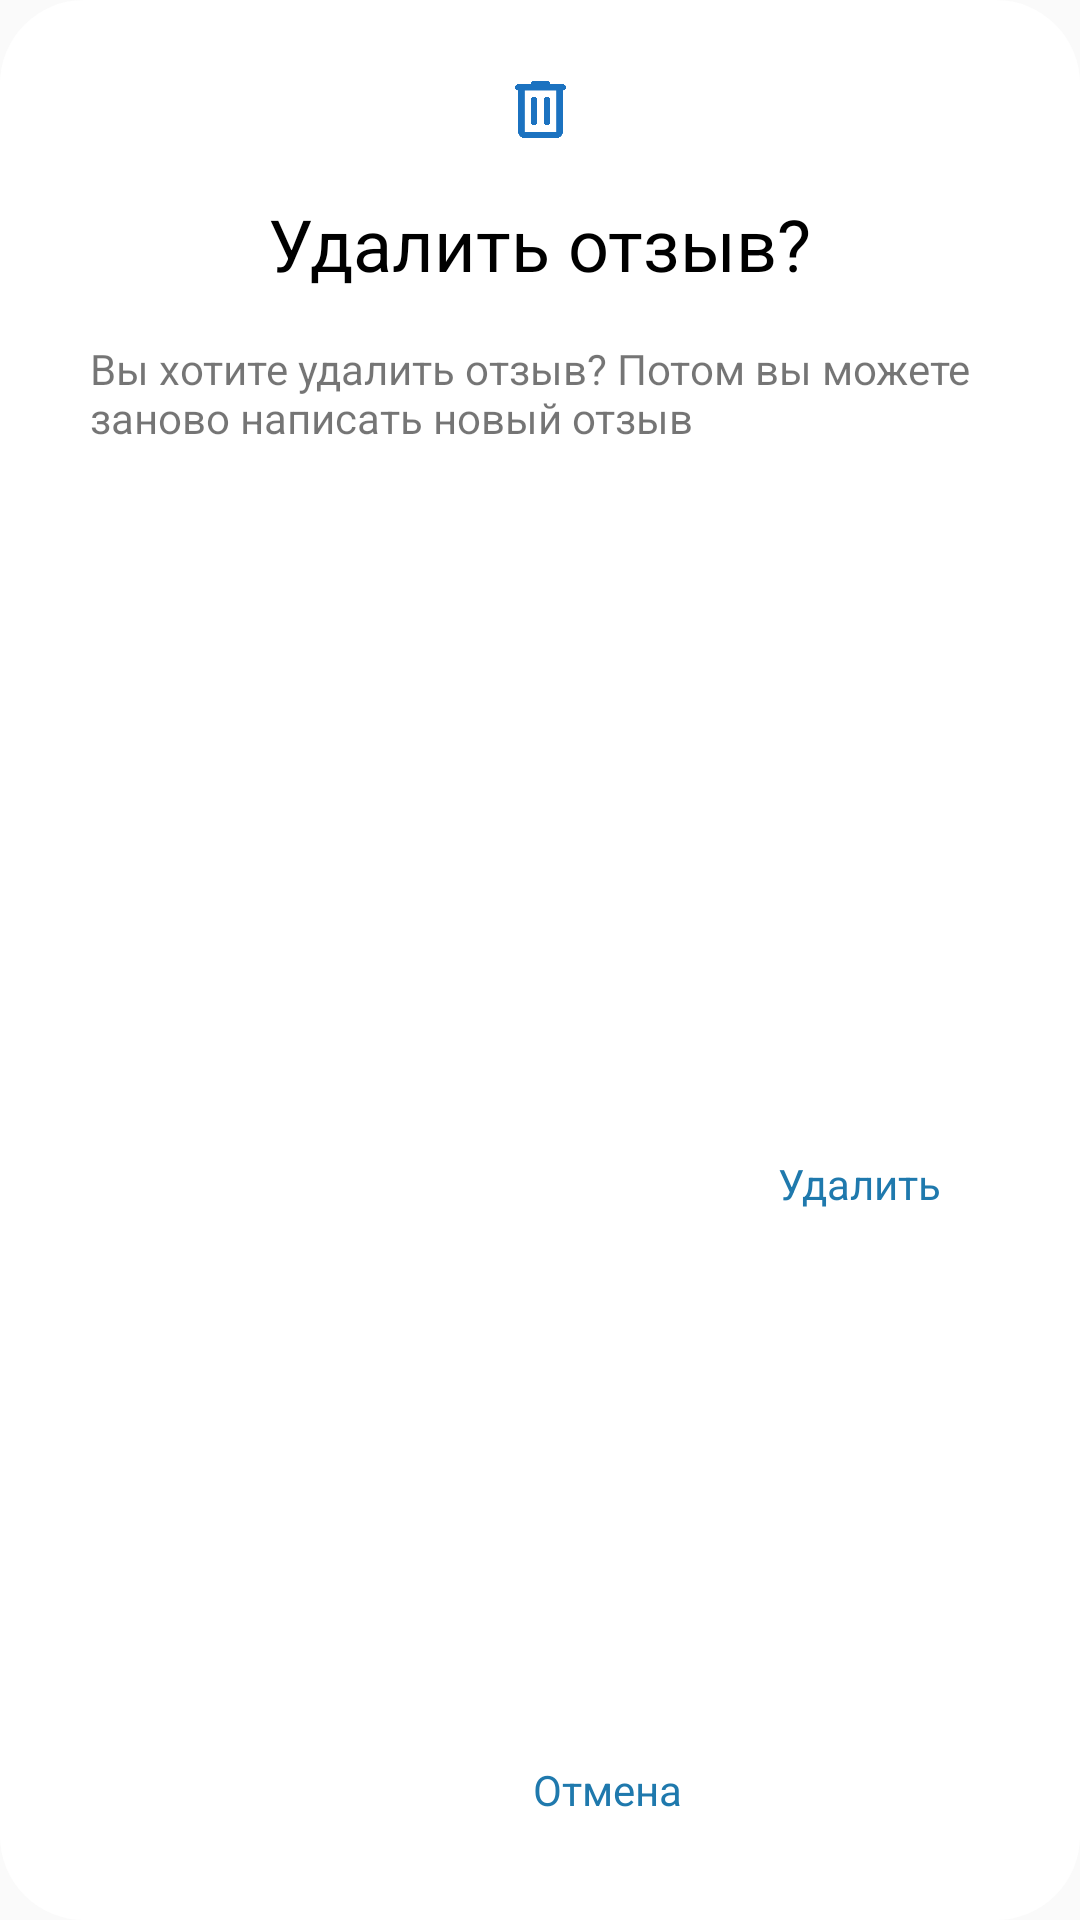

Icon click points for this 1080 × 1920 phone screenshot, format (x=x, y=y):
delete: (x=540, y=109)
